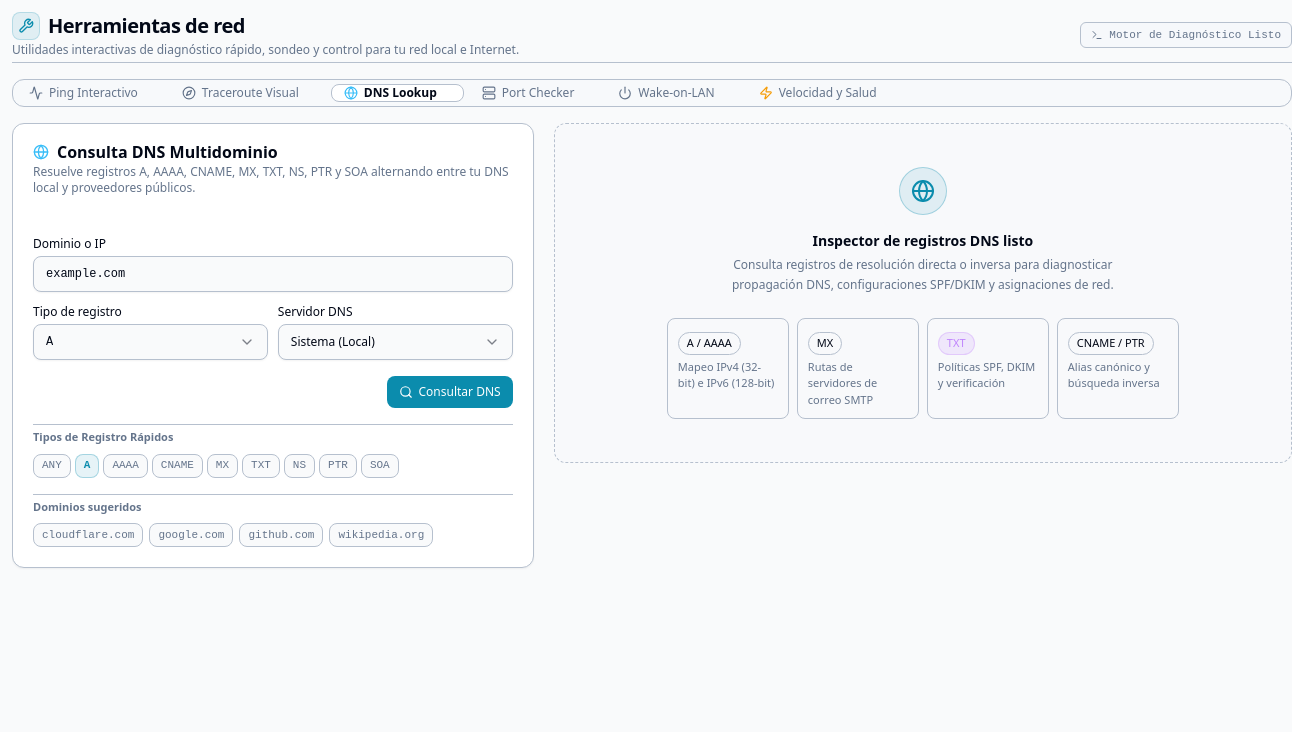
Test: Tools Screen › allows selecting DNS record type and provider via shadcn select
Click the dropdown named "Tipo de registro" at (150, 342), box [33,324,268,360]
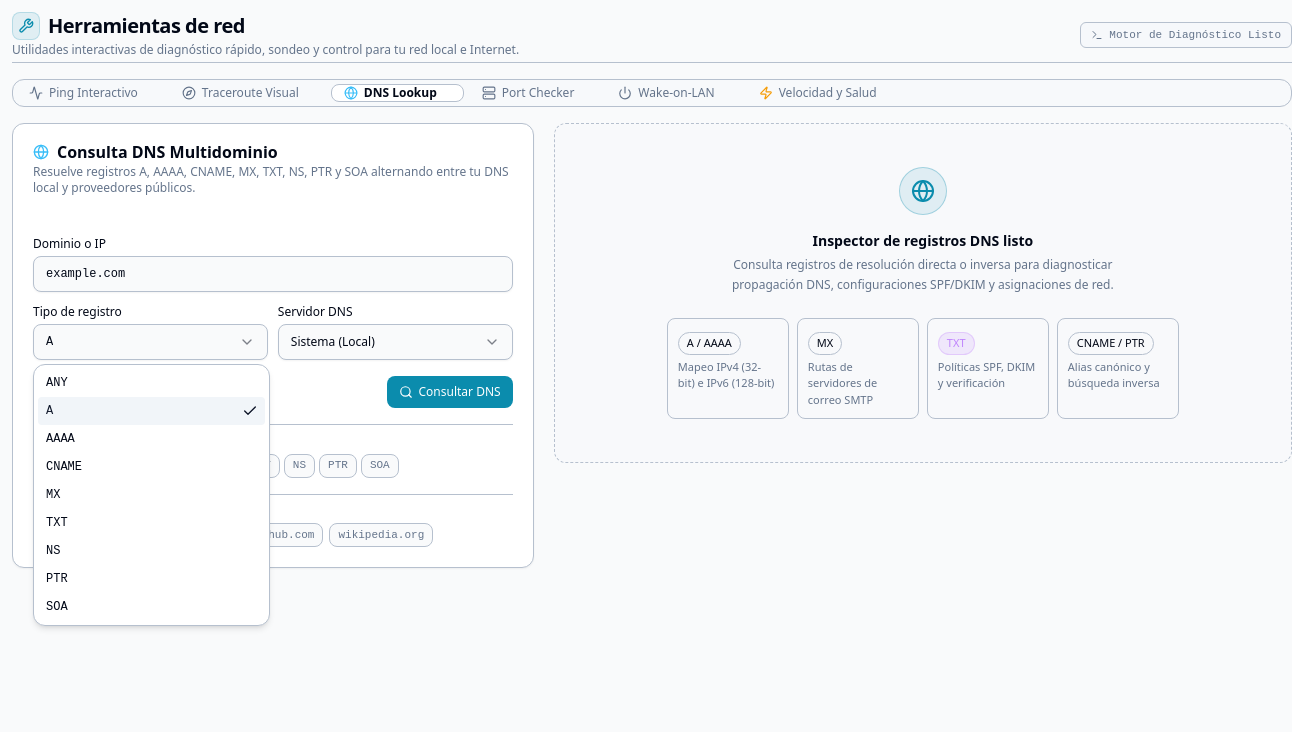
Click the option "AAAA" at (60, 439), box [46,432,75,446]
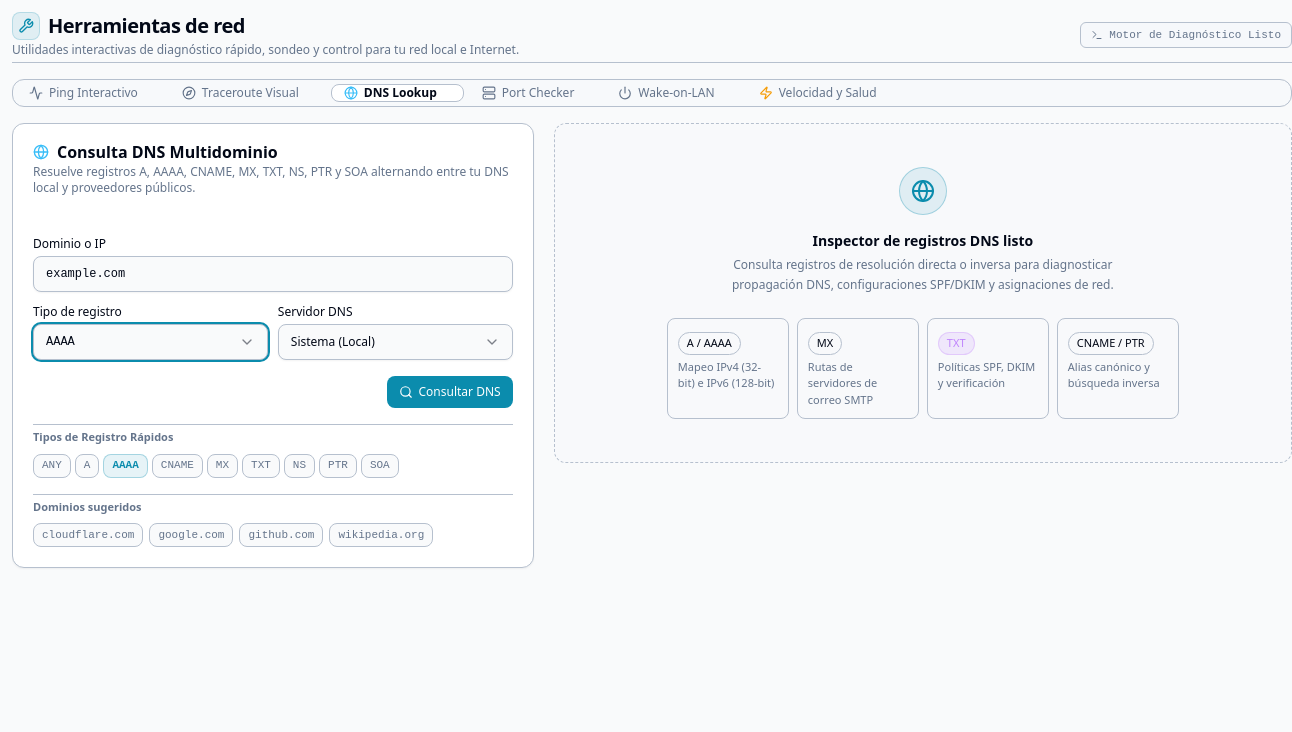
Click the dropdown named "Servidor DNS" at (395, 342), box [278,324,513,360]
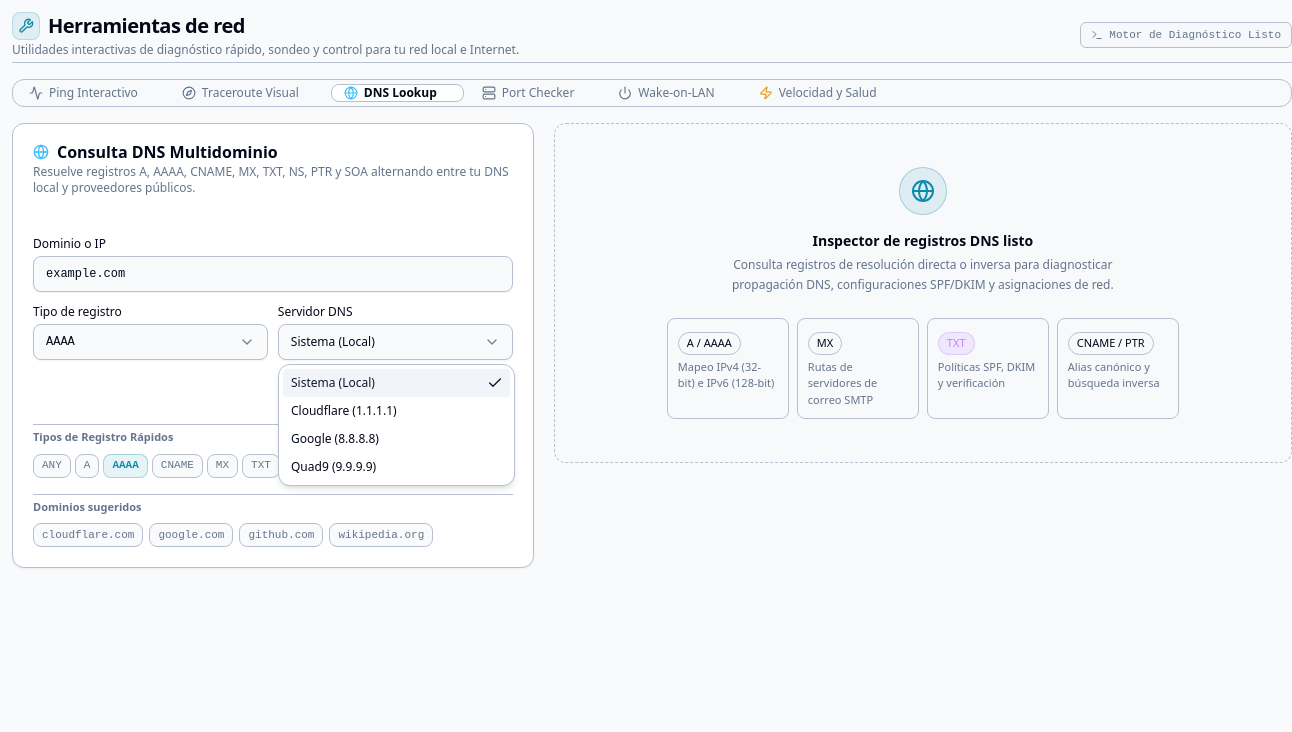
Click the option "Cloudflare (1.1.1.1)" at (344, 410), box [291,402,397,419]
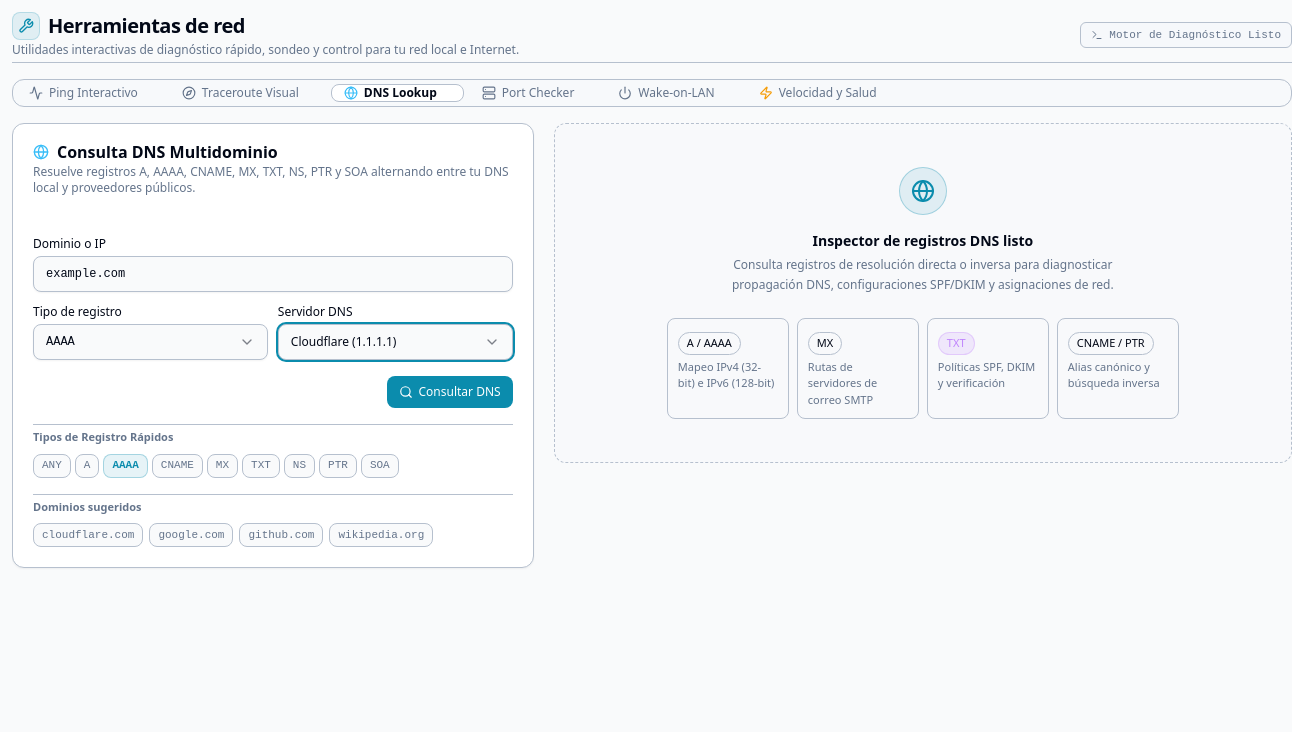
Click the button "Consultar DNS" at (450, 392), box [386,376,513,408]
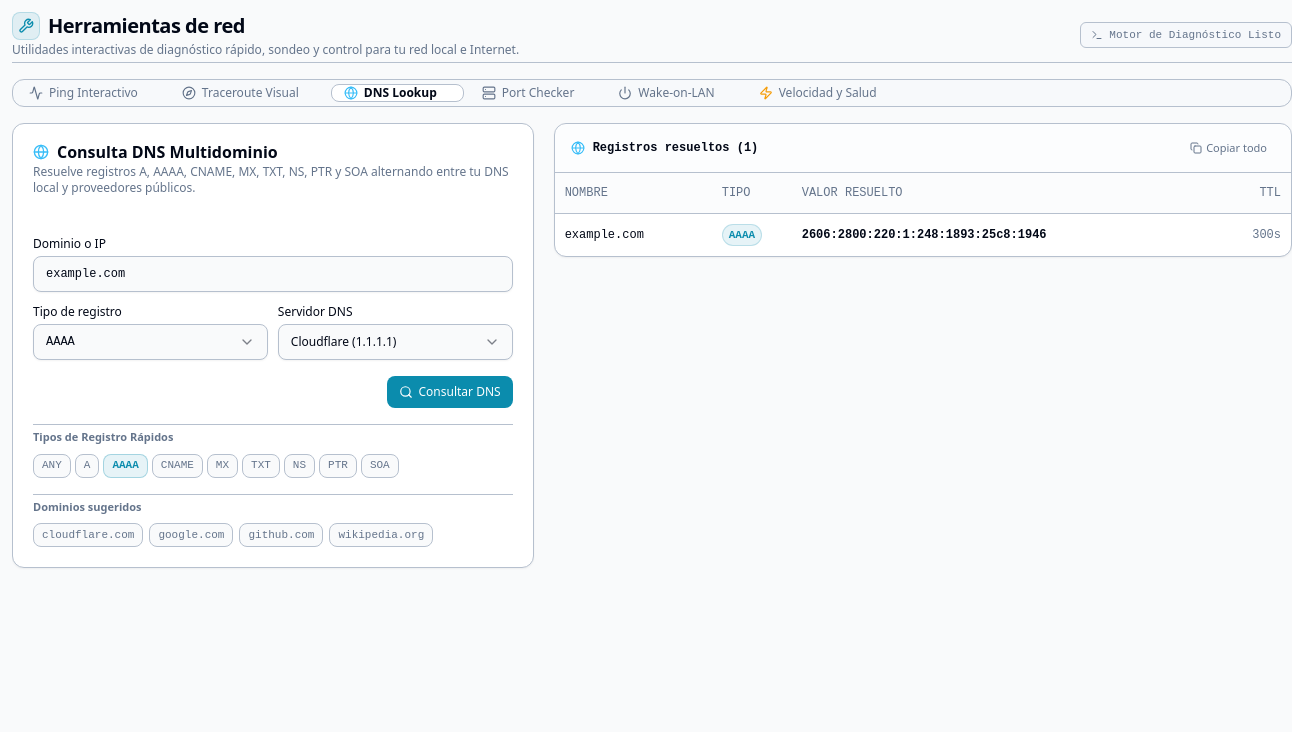
Expected: the text "2606:2800:220:1:248:1893:25c8:1946" is shown, [792,213,1211,256]
